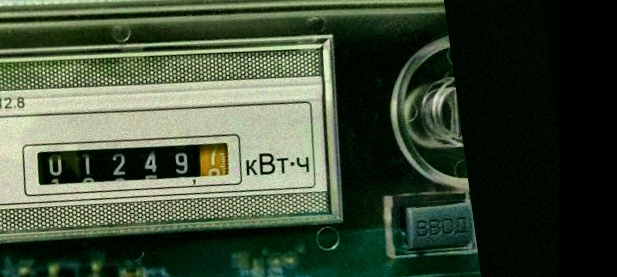0: (45, 150, 65, 178)
1: (77, 149, 94, 177)
2: (107, 150, 128, 178)
4: (140, 147, 159, 174)
7: (204, 140, 222, 168)
9: (170, 148, 190, 176)
screen: (16, 114, 248, 216)
